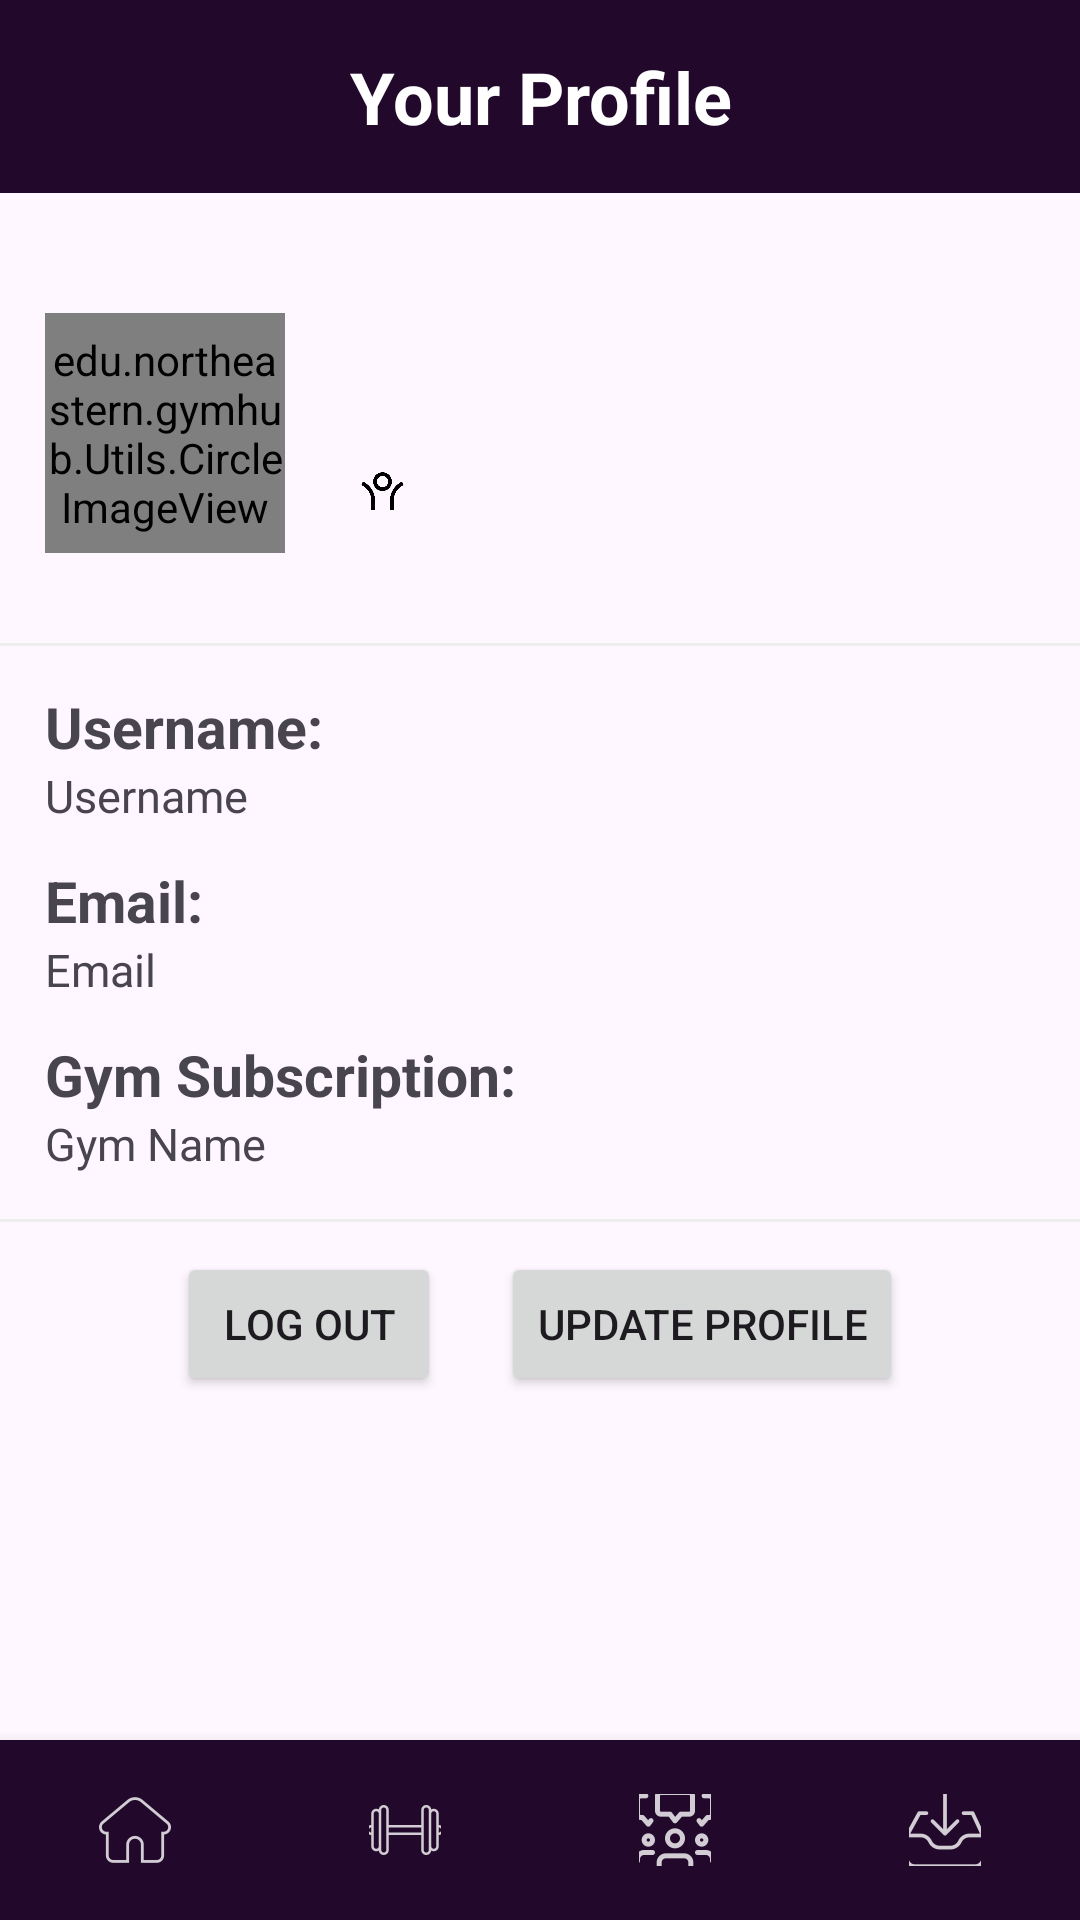

Point at icon controls on the screen. Image size 1080x1920, points as [x,y].
forum: [675,1830]
home: [135,1830]
inbox: [945,1830]
usergender: [382,491]
workout: [405,1830]
